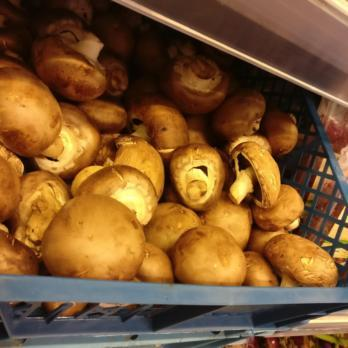Mushroom: (0, 0, 117, 276), (119, 49, 225, 286), (229, 100, 312, 288)
